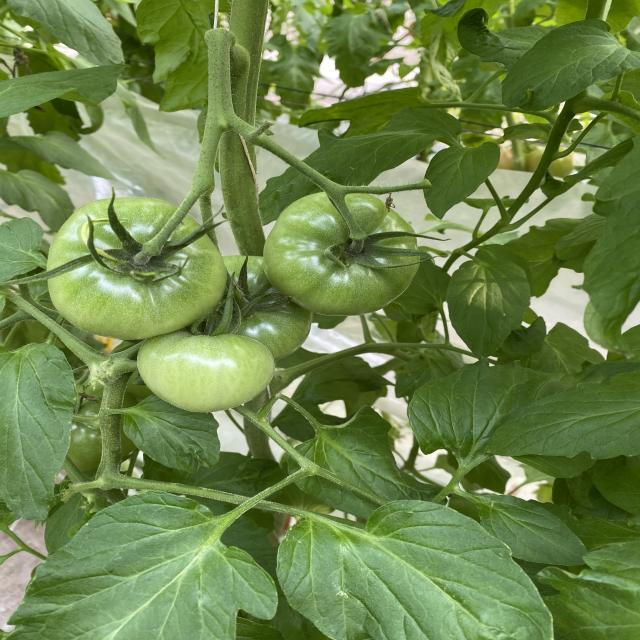yesil: (13, 172, 453, 426)
